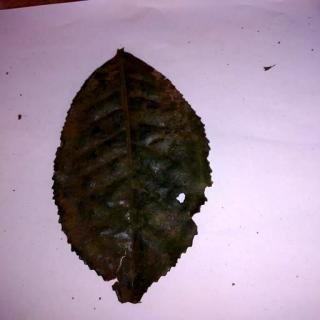Anthracnose: (55, 51, 216, 303)
